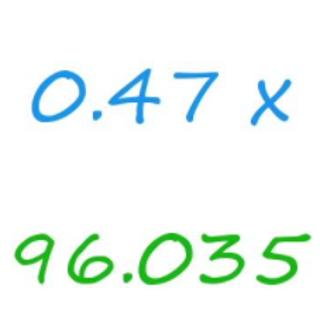.: (88, 103, 105, 127), (120, 266, 134, 288)
0: (30, 66, 88, 125), (138, 229, 195, 286)
3: (194, 229, 246, 287)
4: (108, 63, 164, 124)
5: (254, 228, 314, 286)
6: (64, 228, 117, 289)
7: (165, 61, 222, 126)
9: (10, 232, 60, 287)
